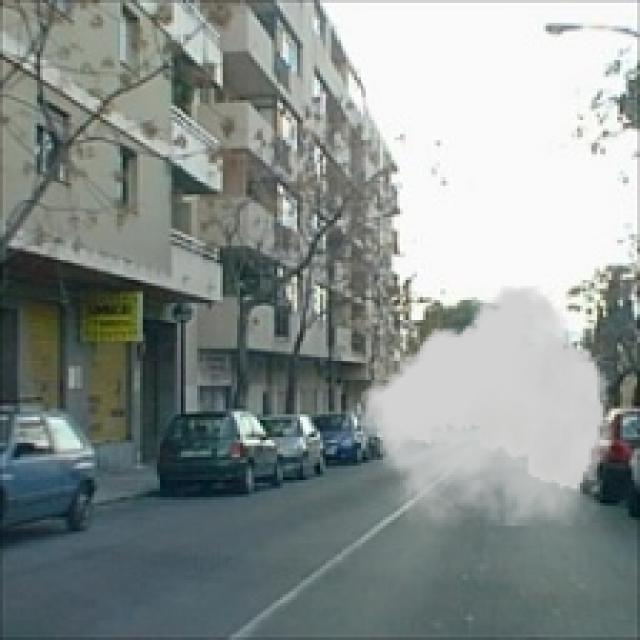Smoke: (360, 286, 614, 526)
